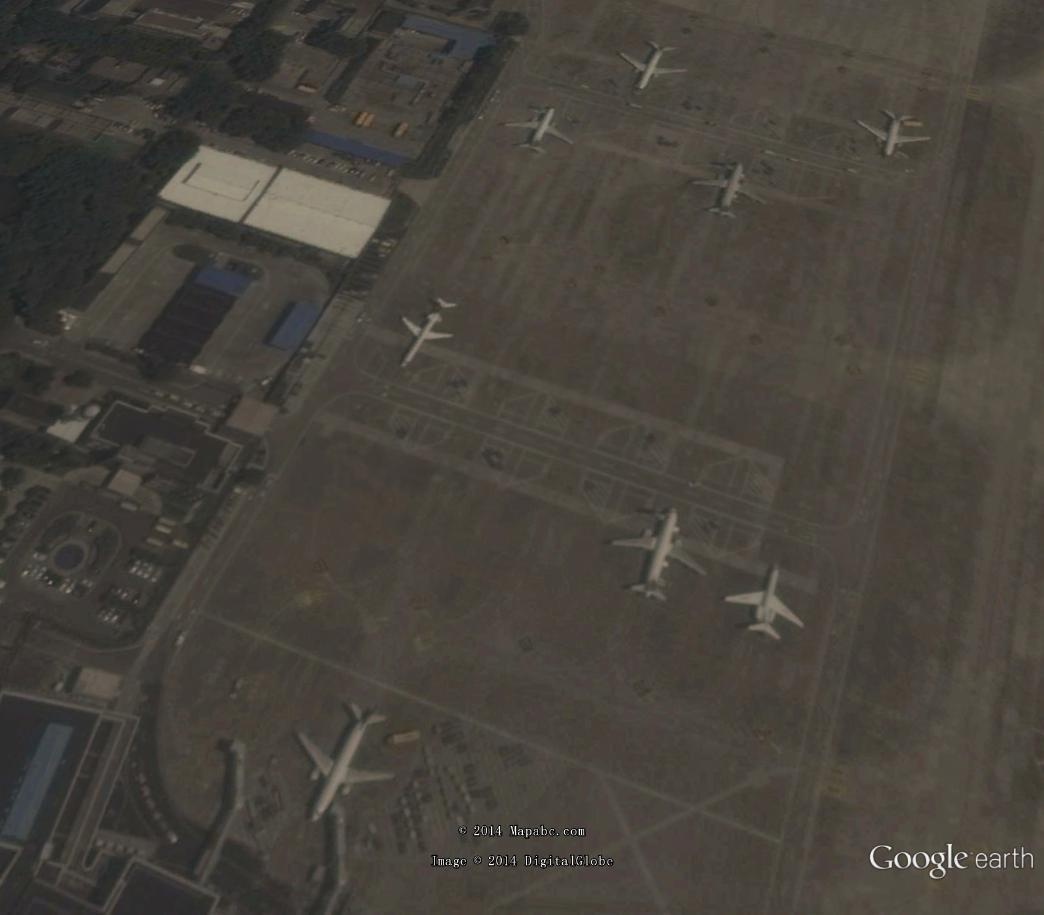aircraft: (292, 694, 403, 832), (603, 499, 709, 603), (717, 561, 808, 652), (688, 153, 772, 223), (393, 291, 462, 373), (850, 103, 936, 165), (502, 100, 579, 159), (613, 34, 688, 94)
